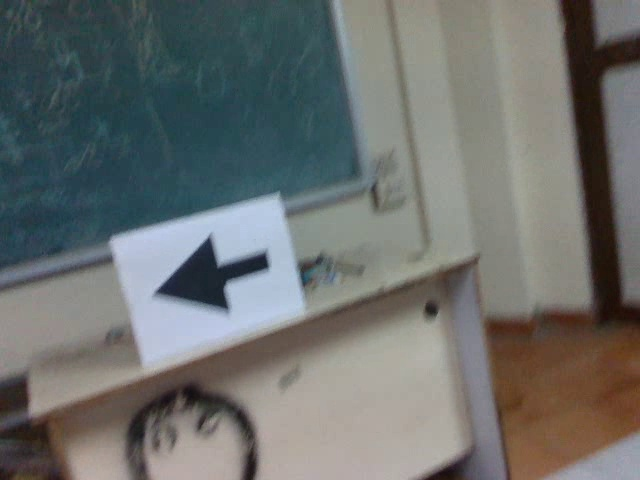Left: (148, 232, 274, 314)
